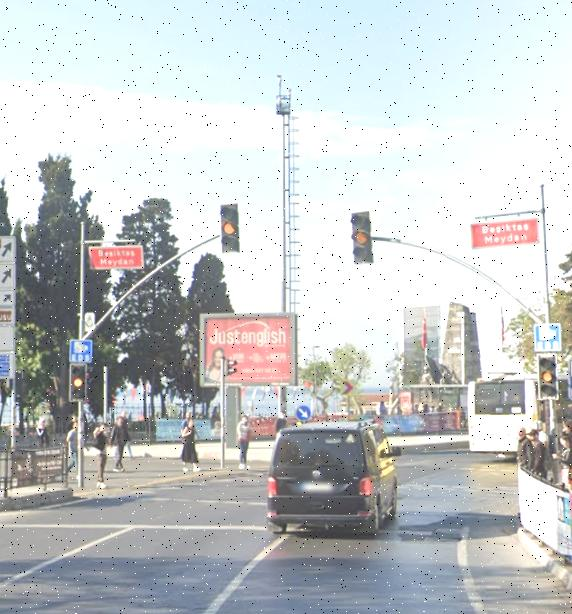yellowlight: (348, 212, 378, 264), (219, 205, 238, 254), (538, 358, 557, 398), (71, 362, 86, 403)
